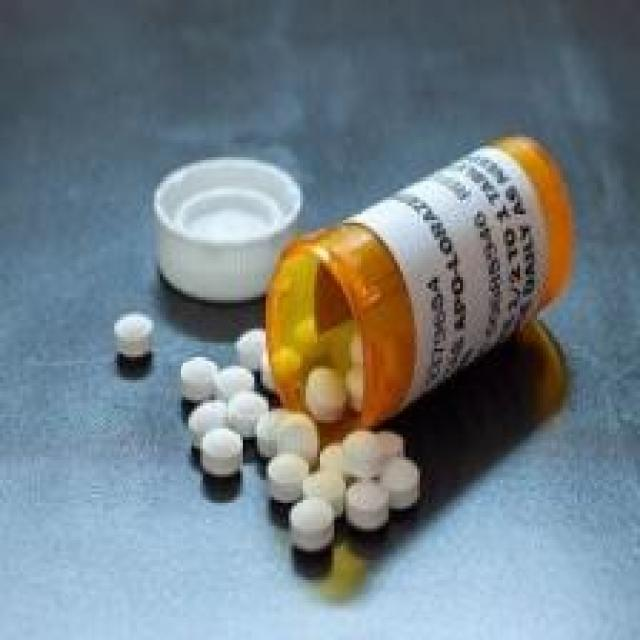Medicine: (84, 139, 640, 630)
